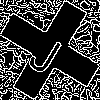J: (25, 25, 70, 77)
